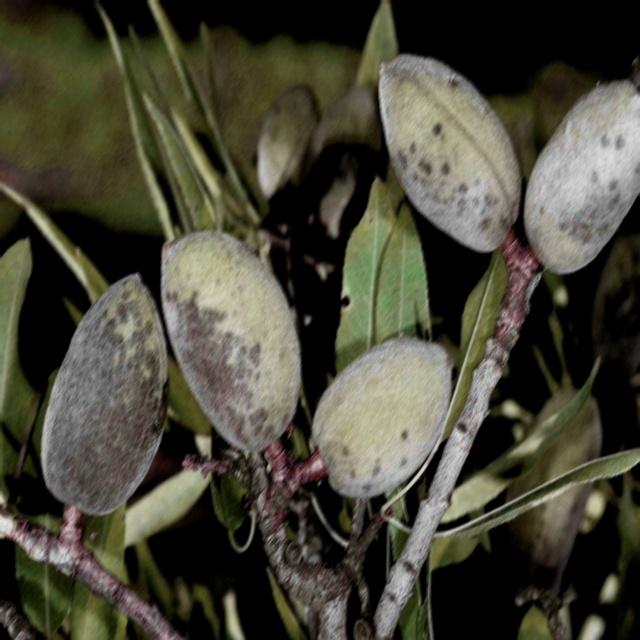leaf_spot: (30, 258, 169, 538), (156, 212, 308, 468), (369, 39, 528, 258)
